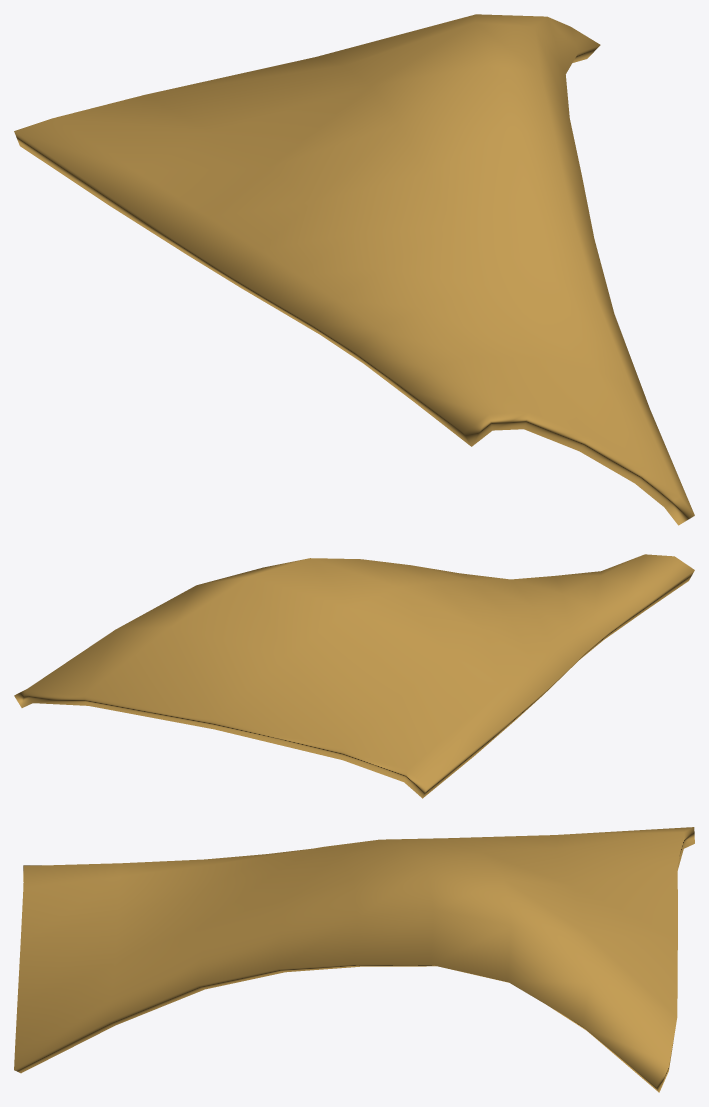
3 renders of one model, top to bottom at view 1: azimuth 30°, elevation 25°; view 2: azimuth 150°, elevation 25°; view 3: azimuth 270°, elevation 25°, orthographic. The views are drawn at different scales.
Visible parts, largest first — view 1: 右侧胫腓后韧带; view 2: 右侧胫腓后韧带; view 3: 右侧胫腓后韧带.
Part boxes in pixels (x1=…): 右侧胫腓后韧带: x1=14, y1=14, x2=694, y2=525; 右侧胫腓后韧带: x1=14, y1=554, x2=694, y2=798; 右侧胫腓后韧带: x1=14, y1=827, x2=694, y2=1092.
Size of the model in its own units: 0.0241 by 0.0111 by 0.0301.
